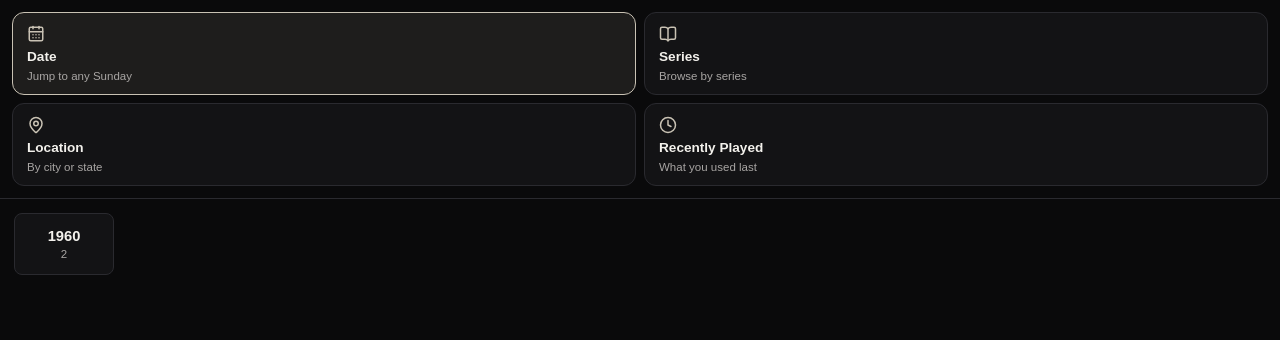
Test: BrowsePanel › Recently Played tab clears with the Clear button
Click the button "Recently Played What you used last": click(711, 148) [644, 103, 1268, 186]
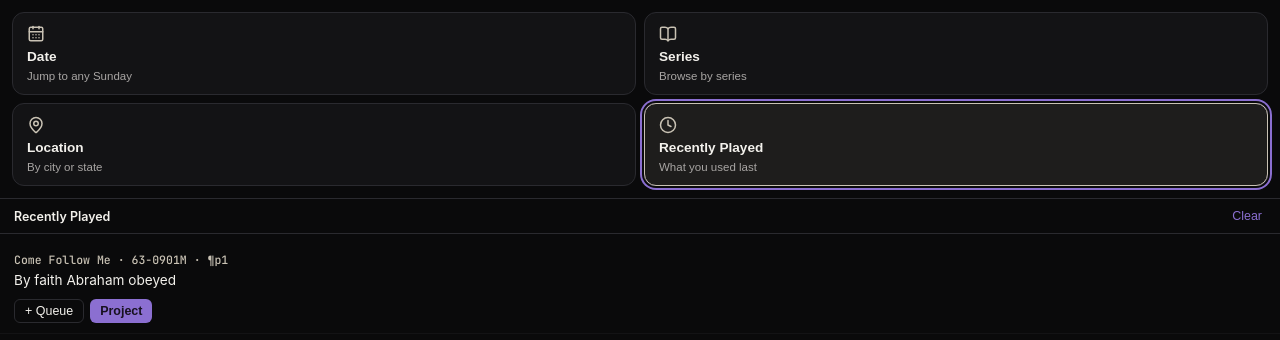
Check: the text "Come Follow Me · 63-0901M · ¶p1" is shown, box [14, 252, 228, 267]
Click the button "Clear": click(1247, 216) [1228, 207, 1266, 225]
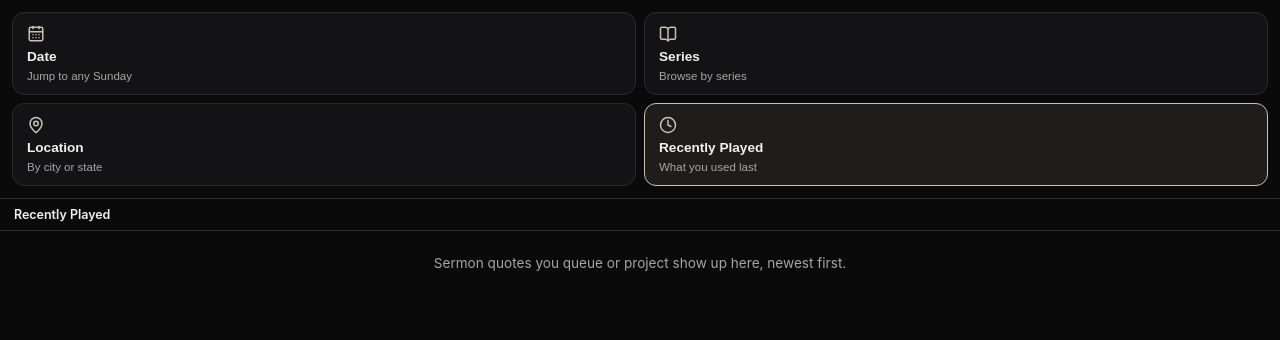
Check: the text "show up here" is shown, box [434, 255, 846, 271]
